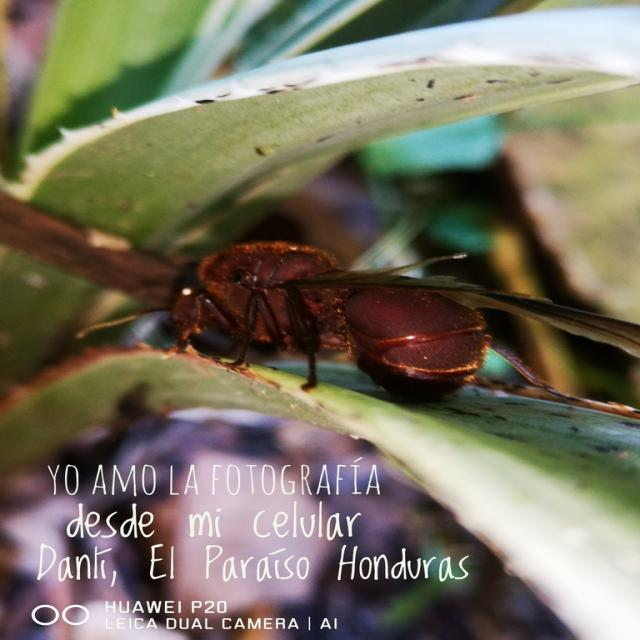Alive-Female-Alate: (0, 186, 640, 420)
